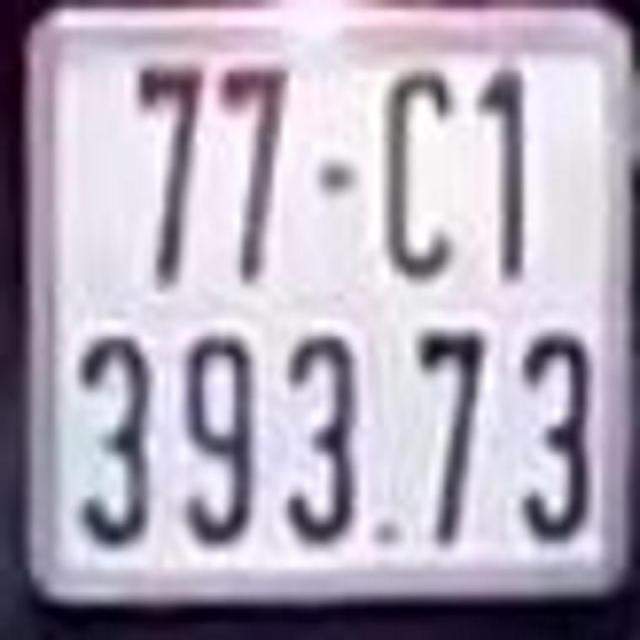1: (467, 64, 537, 290)
3: (76, 319, 156, 555), (516, 318, 594, 548), (288, 320, 356, 550)
7: (131, 50, 209, 285), (217, 46, 291, 284), (418, 307, 490, 548)
9: (180, 321, 254, 554)
C: (376, 62, 456, 284)
